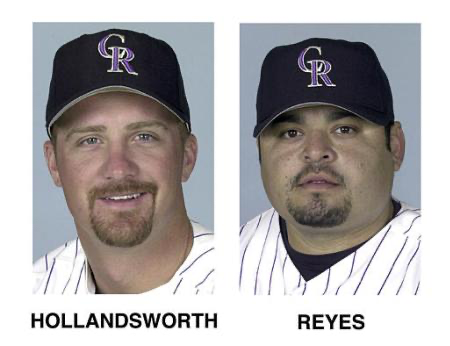Face: (43, 95, 190, 261), (255, 104, 408, 242)
